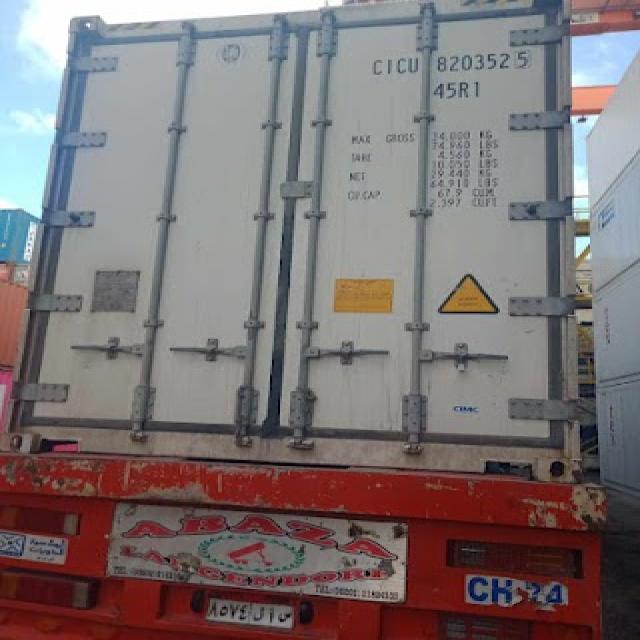ISO: (436, 78, 486, 100)
container_number: (376, 52, 532, 75)
